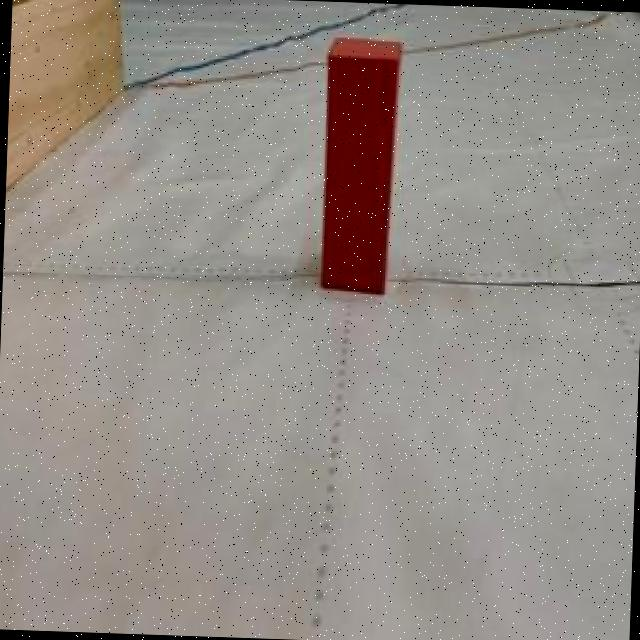redbox: (315, 35, 400, 294)
